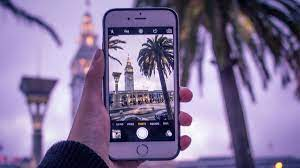phone: (95, 7, 188, 161)
